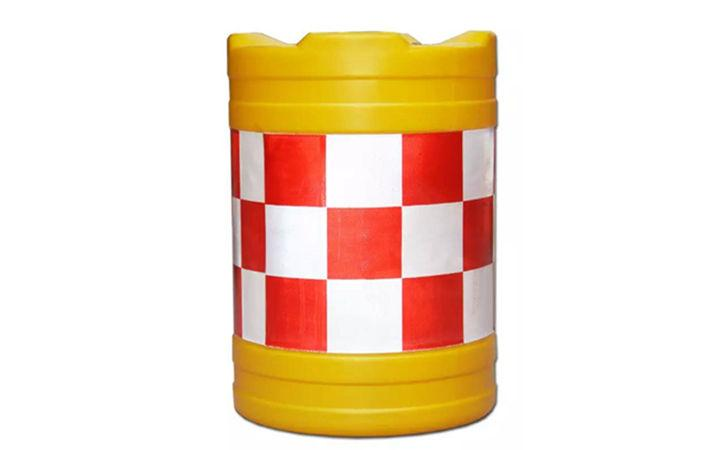sign: (212, 14, 506, 440)
